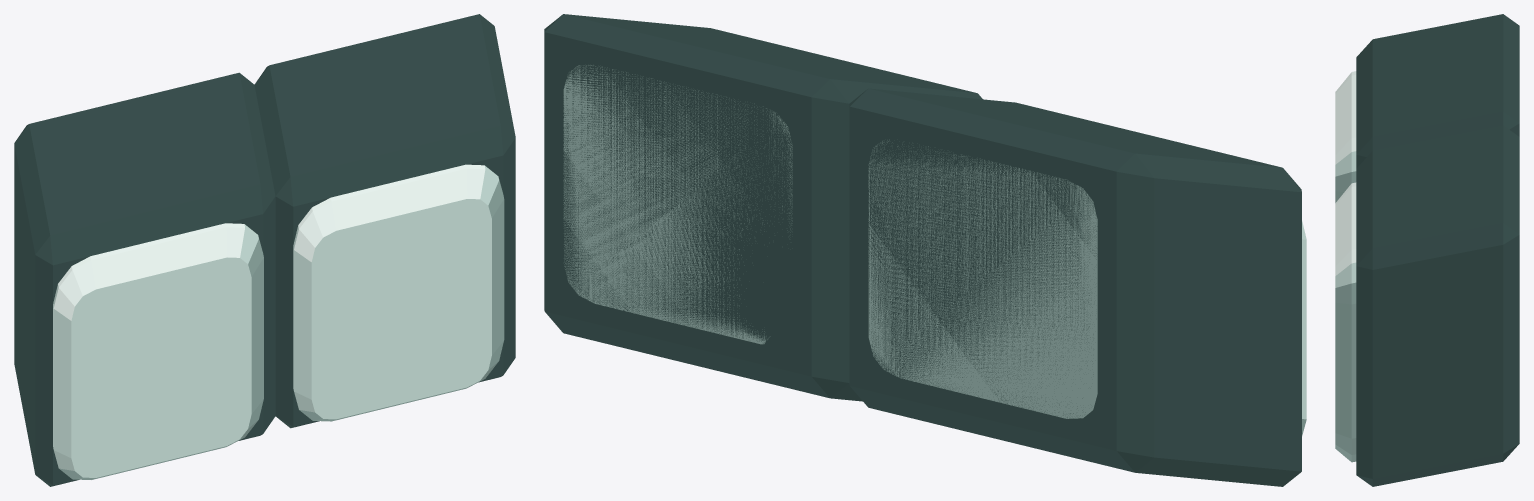
File: Terrain_Block2x1.gltf
3 renders of one model, left to right at view 1: azimuth 30°, elevation 25°; view 2: azimuth 150°, elevation 25°; view 3: azimuth 270°, elevation 25°, orthographic. The views are drawn at different scales.
Parts seen in each view (by area): view 1: Terrain_Block2x1_baked; view 2: Terrain_Block2x1_baked; view 3: Terrain_Block2x1_baked.
Part boxes in pixels (x1,y1,x2,y2): Terrain_Block2x1_baked: [14, 14, 515, 486]; Terrain_Block2x1_baked: [544, 14, 1306, 486]; Terrain_Block2x1_baked: [1335, 14, 1519, 486].
Size of the model in its own units: 2.2 by 1.2 by 0.7.
